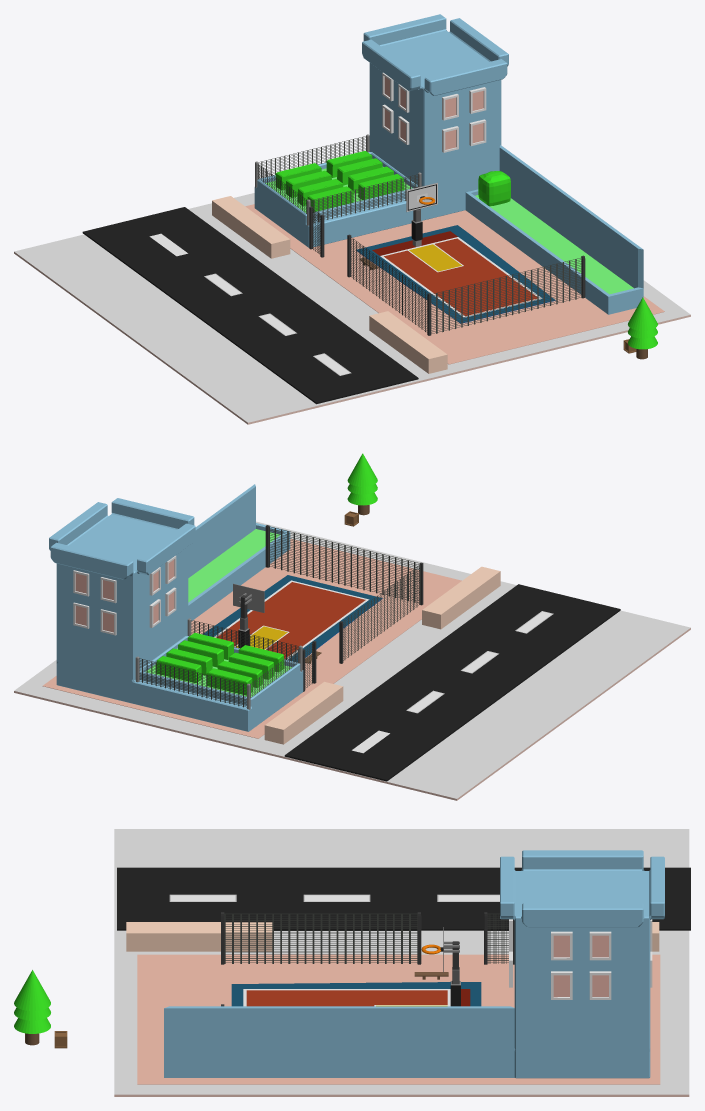
Rendered from Sandbox.fbx.
3 renders of one model, top to bottom at view 1: azimuth 30°, elevation 25°; view 2: azimuth 150°, elevation 25°; view 3: azimuth 270°, elevation 25°, orthographic. The views are drawn at different scales.
Parts seen in each view (by area): view 1: Building1, Plot, Road, Field, Building2, Lapangan, Plant2, Border, Fence Grid 3, Green2, Fence Grid 2, Fence Building Grid 2 (+6 smaller); view 2: Building1, Plot, Road, Field, Lapangan, Building2, Plant2, Border, Fence Grid 3, Fence Grid 2, Fence Building Grid 1, Green2 (+5 smaller); view 3: Plot, Building1, Building2, Road, Field, Fence Grid 2, Lapangan, Border, Tree, Tiang, Fence Grid 1, Fence.
Part boxes in pixels (box(x1,y1,x2,y2)): Building1: box(254, 14, 508, 247); Plot: box(14, 193, 690, 424); Road: box(82, 207, 418, 404); Field: box(245, 204, 664, 364); Building2: box(465, 145, 643, 314); Lapangan: box(356, 225, 555, 323); Plant2: box(275, 150, 404, 211); Border: box(212, 196, 447, 373); Fence Grid 3: box(431, 257, 582, 333); Green2: box(475, 195, 633, 294); Fence Grid 2: box(350, 236, 427, 331); Fence Building Grid 2: box(311, 174, 418, 223); Building1: box(49, 498, 303, 731); Plot: box(14, 521, 690, 800); Road: box(284, 584, 620, 781); Field: box(42, 539, 461, 738); Lapangan: box(202, 575, 382, 661); Building2: box(188, 484, 290, 621); Plant2: box(156, 632, 284, 695); Border: box(264, 566, 500, 744); Fence Grid 3: box(269, 526, 419, 602); Fence Grid 2: box(343, 564, 420, 660); Fence Building Grid 1: box(139, 658, 246, 707); Green2: box(188, 529, 280, 602); Plot: box(114, 829, 689, 1096); Building1: box(500, 850, 664, 1078); Building2: box(164, 1006, 515, 1077); Road: box(117, 867, 690, 930); Field: box(137, 954, 660, 1084); Fence Grid 2: box(224, 913, 417, 963); Lapangan: box(231, 982, 481, 1006); Border: box(126, 922, 659, 951); Tree: box(14, 970, 50, 1045); Tiang: box(421, 927, 460, 1006); Fence Grid 1: box(487, 913, 508, 963); Fence: box(221, 912, 514, 1006).
Size of the model in its own units: 16949 by 5318 by 18261.
